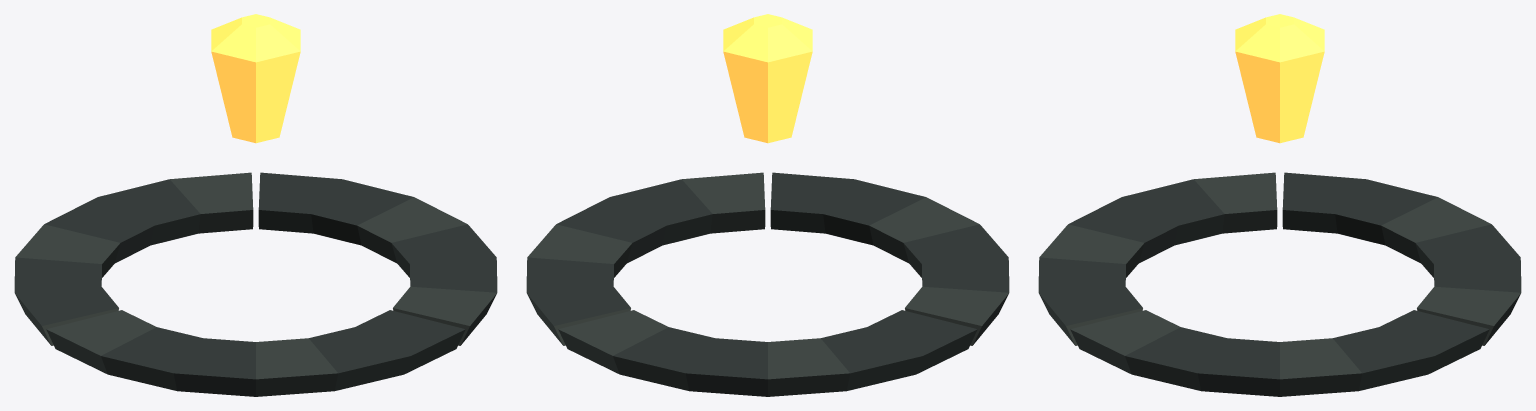
The model's file is p04_wind_checkpoint_beacon.glb.
The picture shows the model from 3 angles, left to right: view 1: azimuth 30°, elevation 25°; view 2: azimuth 150°, elevation 25°; view 3: azimuth 270°, elevation 25°; orthographic projection.
Parts seen in each view (by area): view 1: P04_Activated_WindCheckpoint, P04_Activated_WindCheckpoint_FacetedCrystal; view 2: P04_Activated_WindCheckpoint, P04_Activated_WindCheckpoint_FacetedCrystal; view 3: P04_Activated_WindCheckpoint, P04_Activated_WindCheckpoint_FacetedCrystal.
Part boxes in pixels (left/top/right/bottom): P04_Activated_WindCheckpoint: left=14, top=172, right=497, bottom=396; P04_Activated_WindCheckpoint_FacetedCrystal: left=211, top=14, right=300, bottom=143; P04_Activated_WindCheckpoint: left=526, top=172, right=1009, bottom=396; P04_Activated_WindCheckpoint_FacetedCrystal: left=723, top=14, right=812, bottom=143; P04_Activated_WindCheckpoint: left=1038, top=172, right=1521, bottom=396; P04_Activated_WindCheckpoint_FacetedCrystal: left=1235, top=14, right=1324, bottom=143.
Size of the model in its own units: 3.6 by 2.25 by 3.55.
